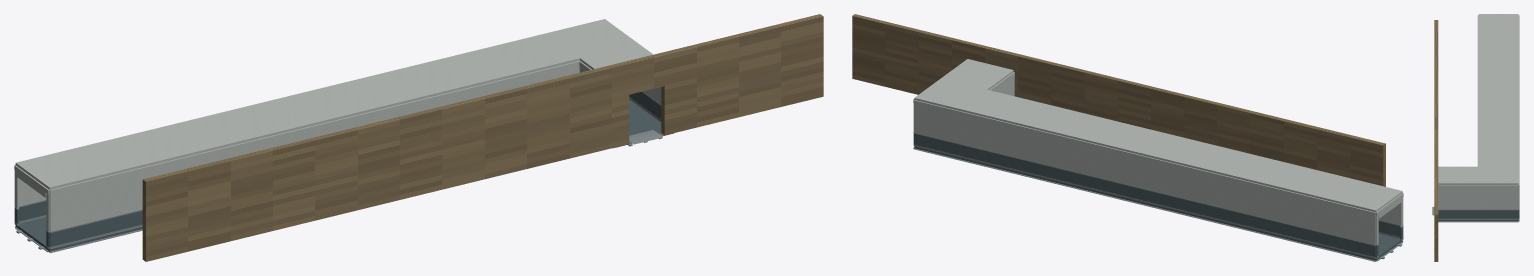
The model's file is LIBRARY_RECEIVING_RECEIVER_r002.glb.
3 views of the same model, side by side, from view 1: azimuth 30°, elevation 25°; view 2: azimuth 150°, elevation 25°; view 3: azimuth 270°, elevation 25° (orthographic). The views are drawn at different scales.
Parts seen in each view (by area): view 1: LRS_EXACT_SOUTH_SUCCESSOR, LRS_BATCH_001, LRS_BATCH_000, LRS_BATCH_002; view 2: LRS_BATCH_001, LRS_EXACT_SOUTH_SUCCESSOR, LRS_BATCH_000, LRS_BATCH_002; view 3: LRS_BATCH_001, LRS_EXACT_SOUTH_SUCCESSOR, LRS_BATCH_000, LRS_BATCH_002.
Part boxes in pixels (x1,y1,x2,y2): LRS_EXACT_SOUTH_SUCCESSOR: [142, 14, 823, 261]; LRS_BATCH_001: [14, 19, 661, 231]; LRS_BATCH_000: [14, 92, 672, 252]; LRS_BATCH_002: [14, 91, 674, 252]; LRS_BATCH_001: [913, 59, 1403, 245]; LRS_EXACT_SOUTH_SUCCESSOR: [852, 14, 1385, 186]; LRS_BATCH_000: [913, 133, 1403, 261]; LRS_BATCH_002: [913, 132, 1403, 261]; LRS_BATCH_001: [1438, 14, 1519, 209]; LRS_EXACT_SOUTH_SUCCESSOR: [1434, 20, 1438, 261]; LRS_BATCH_000: [1438, 210, 1519, 221]; LRS_BATCH_002: [1432, 187, 1519, 222].
Size of the model in its own units: 50.3 by 5.44 by 8.69.
5 materials, 4 textured.
